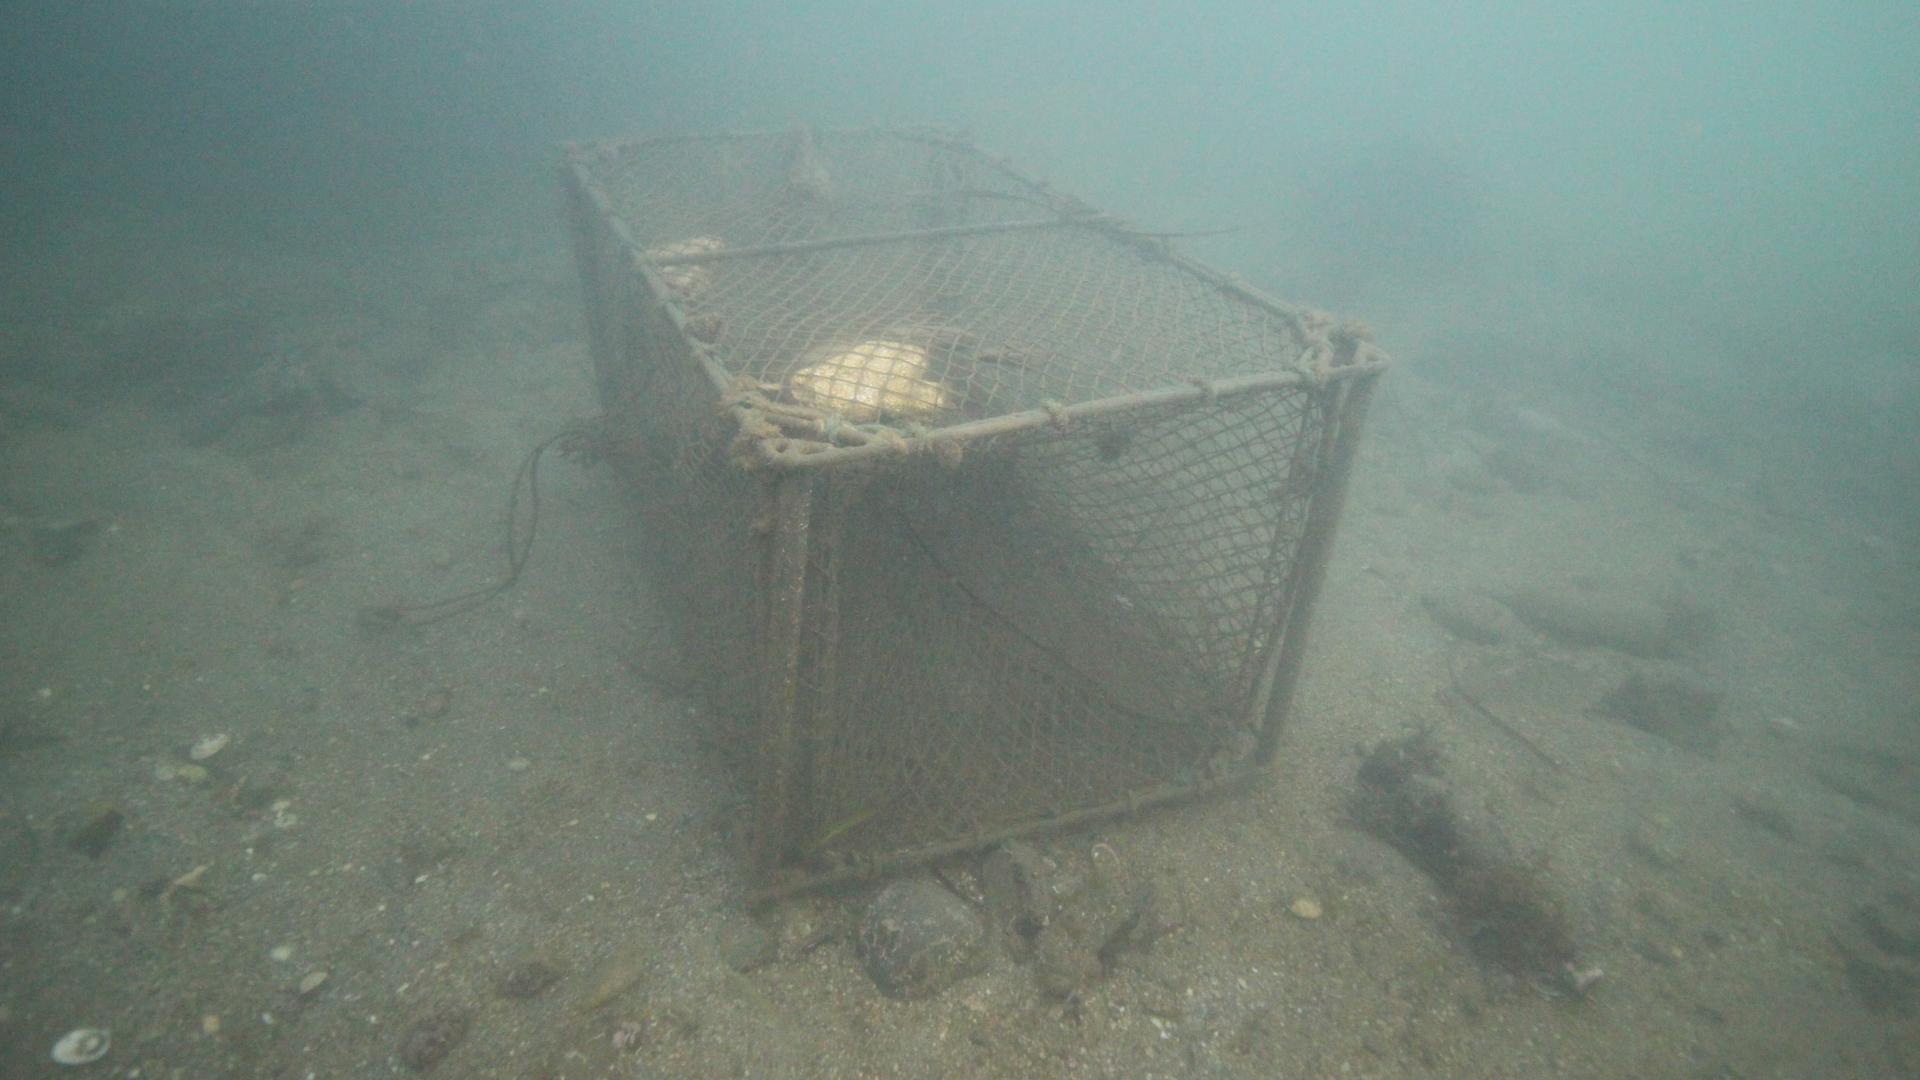bundle of rope: (365, 418, 607, 636)
rectangular fish trap: (554, 120, 1393, 906)
